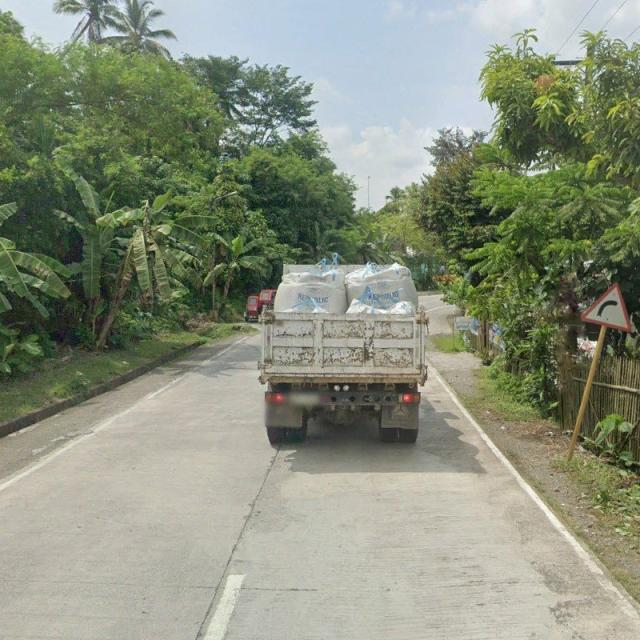warn_right_curve: (581, 282, 631, 333)
